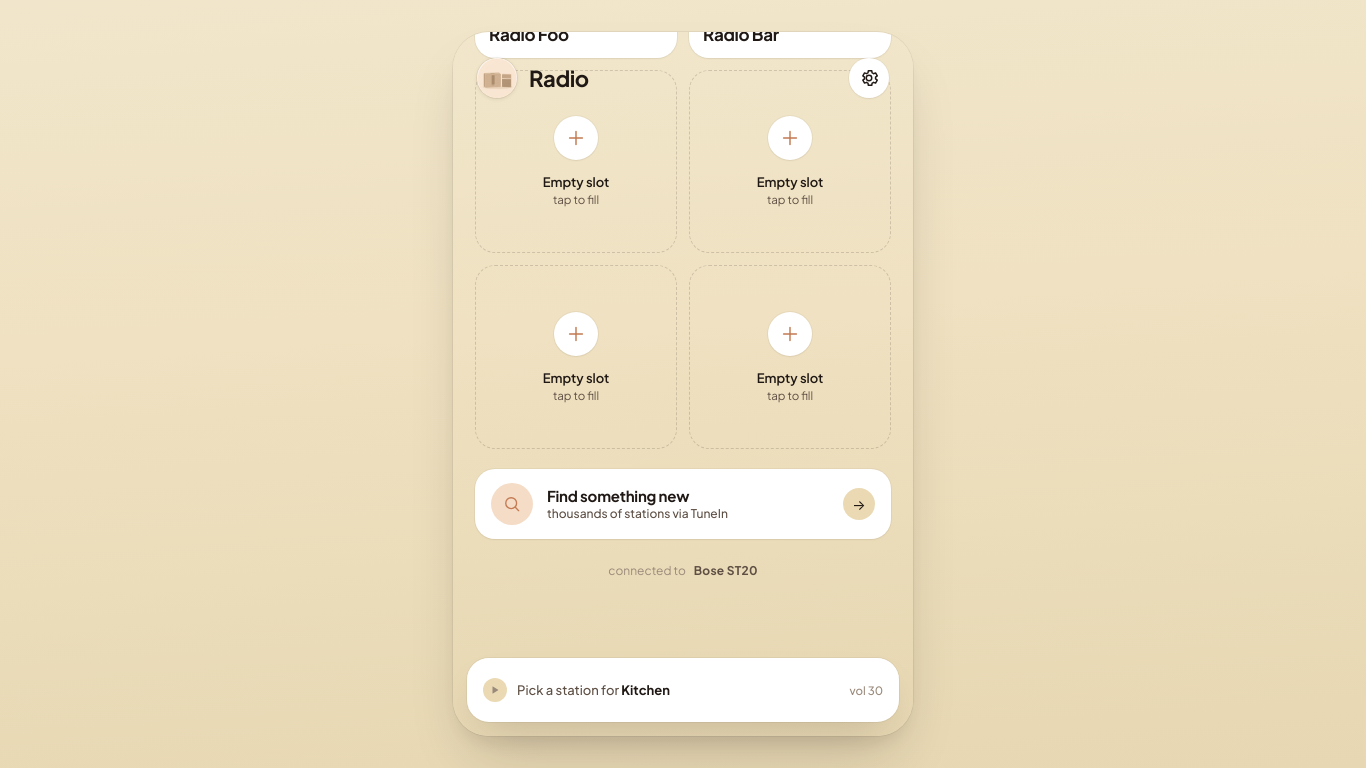
it: App integration › opens the search sheet from the browse row
This screenshot has width=1366, height=768.
(page scrolled)
Click the text "Find something new": (618, 496) top-left (547, 486), bottom-right (689, 505)
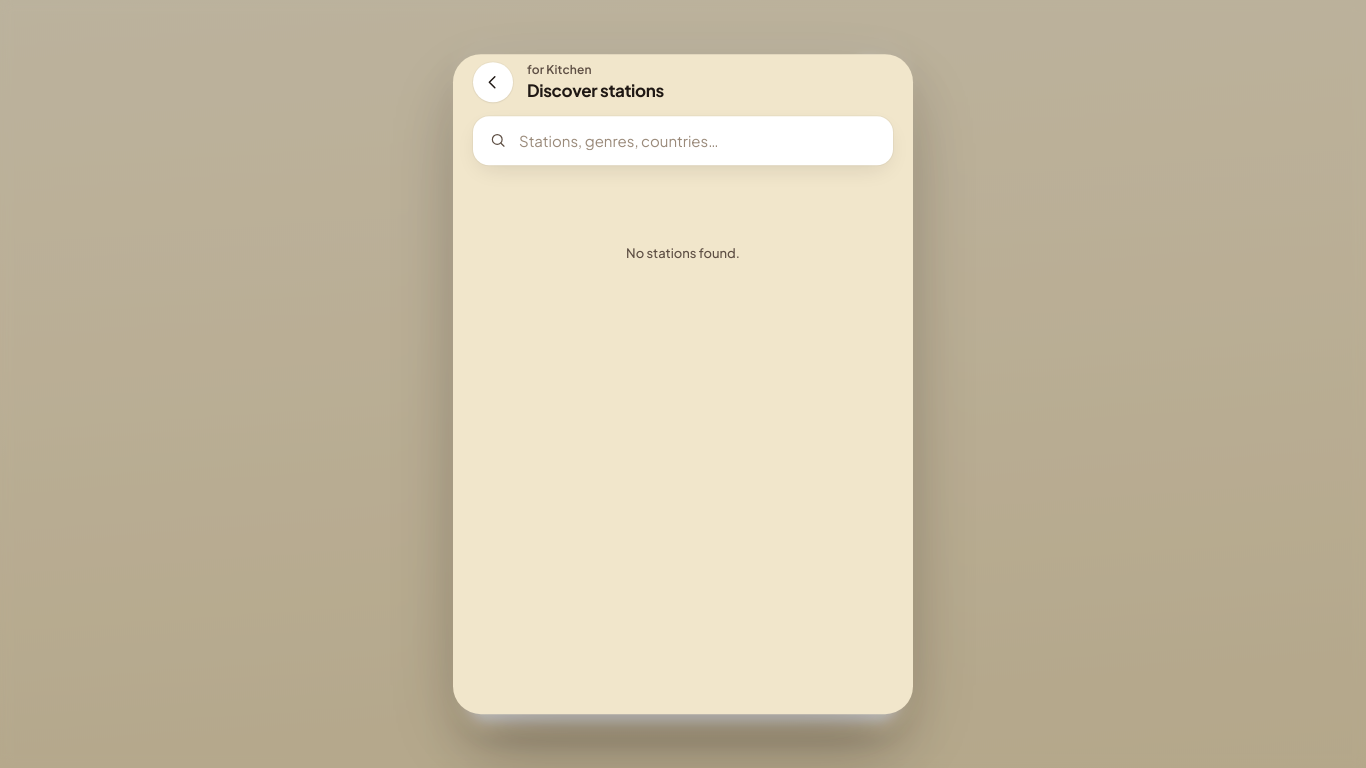
Expected: the text "Discover stations" is shown, top-left (527, 79), bottom-right (664, 101)
In the field with placeholder "Stations, genres, countries…": (697, 140) top-left (517, 130), bottom-right (877, 151), type "jazz"
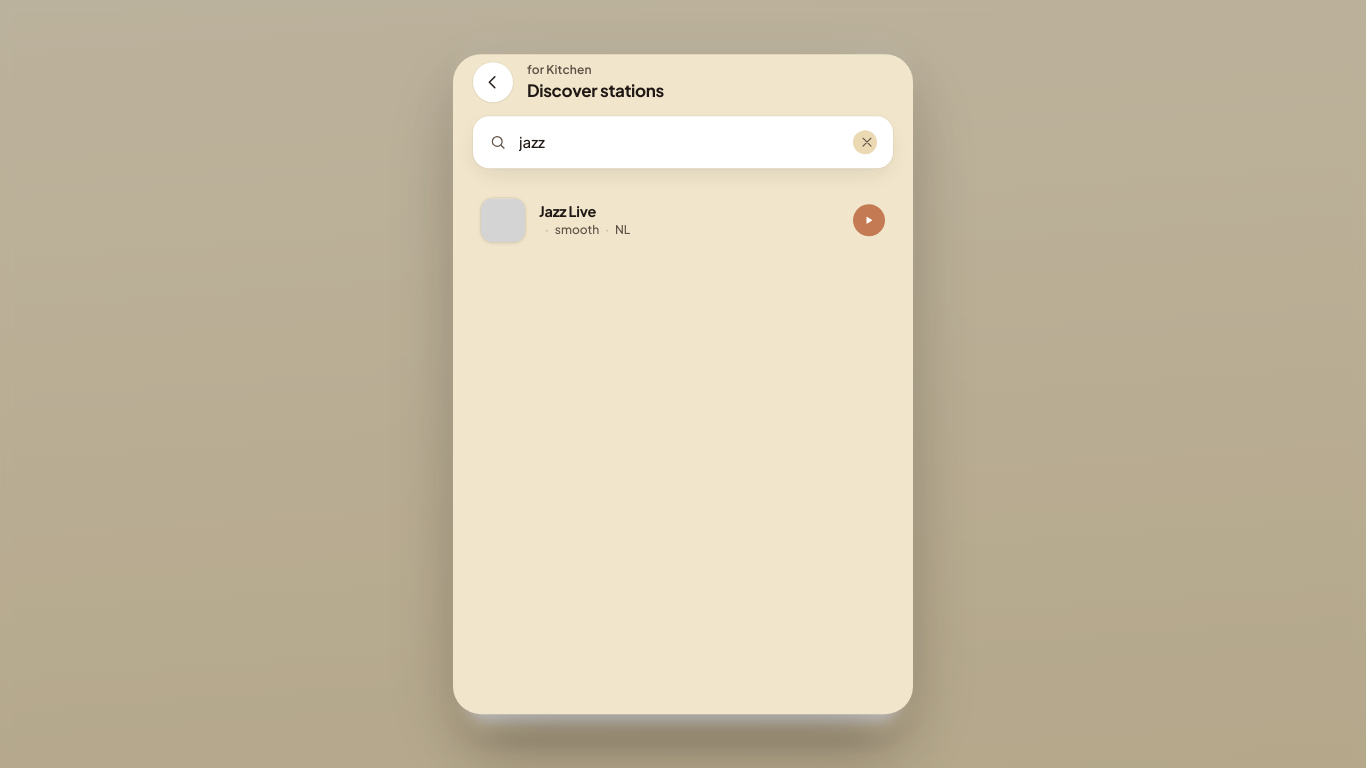
Expected: the text "Jazz Live" is shown, top-left (539, 202), bottom-right (596, 220)
